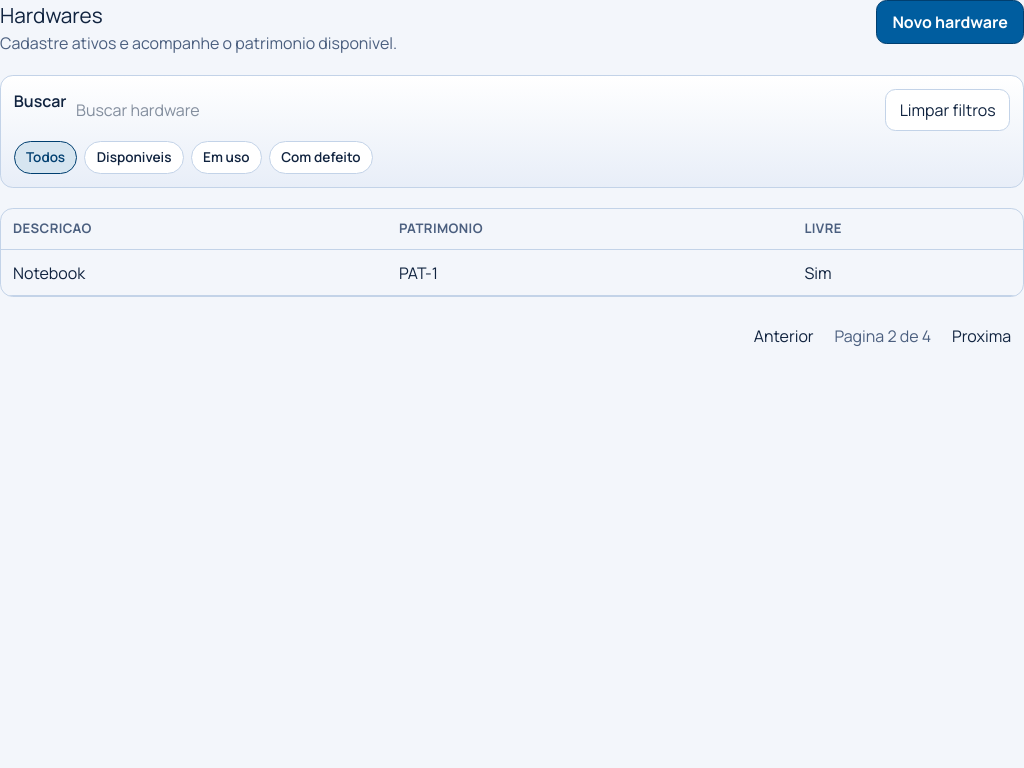
Scenario: HardwaresPage listing flow › maps create errors by status to actionable text
Click the button "Novo hardware".
click(950, 22)  # box [876, 0, 1023, 44]
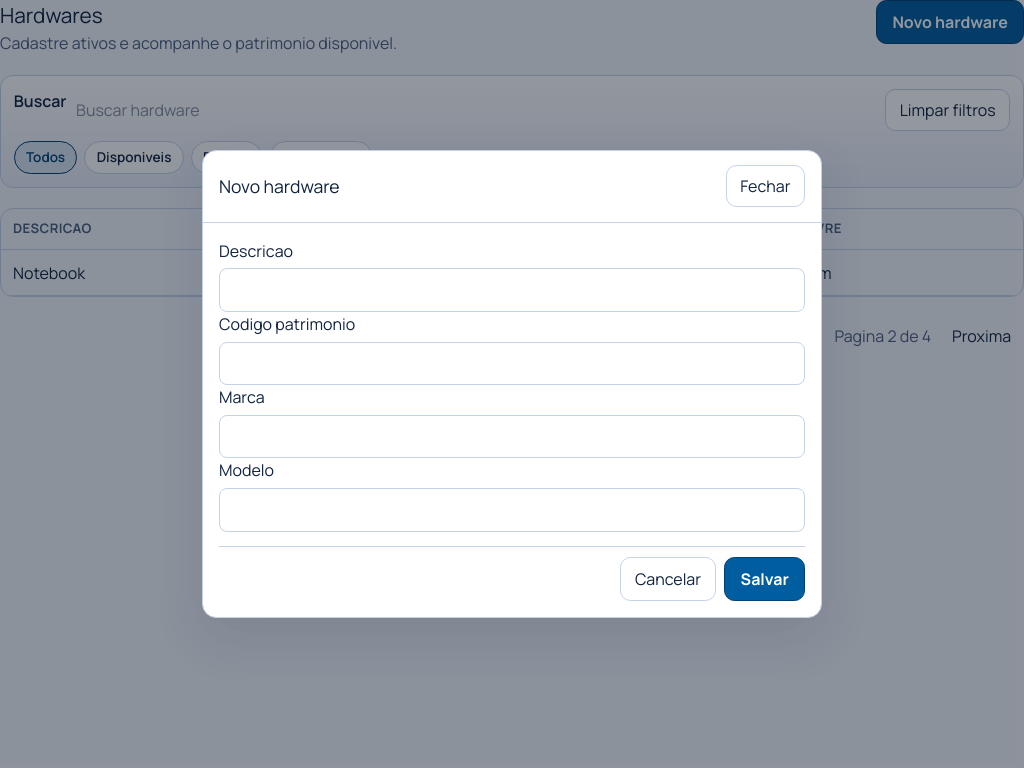
Type "Monitor" into the field labelled "Descricao".
click(512, 290); type("Monitor")  # box [219, 268, 805, 312]
Type "LG" into the field labelled "Marca".
click(512, 437); type("LG")  # box [219, 415, 805, 458]
Type "Ultra" into the field labelled "Modelo".
click(512, 510); type("Ultra")  # box [219, 488, 805, 532]
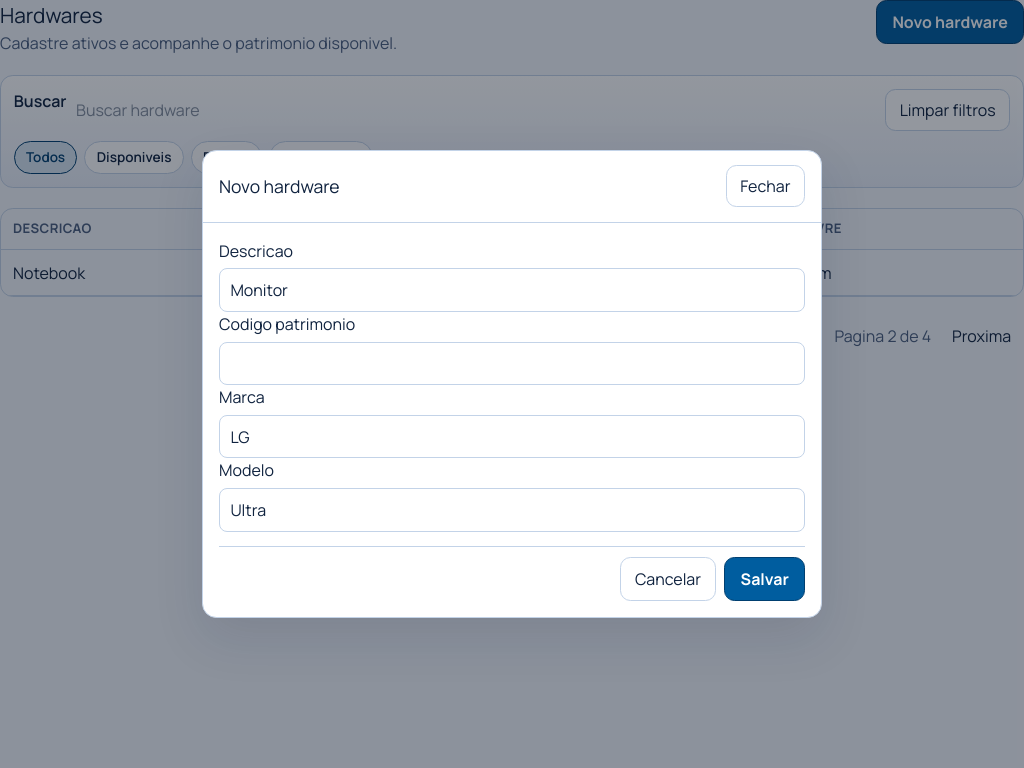
Type "PAT-40" into the field labelled "Codigo patrimonio".
click(512, 363); type("PAT-40")  # box [219, 342, 805, 385]
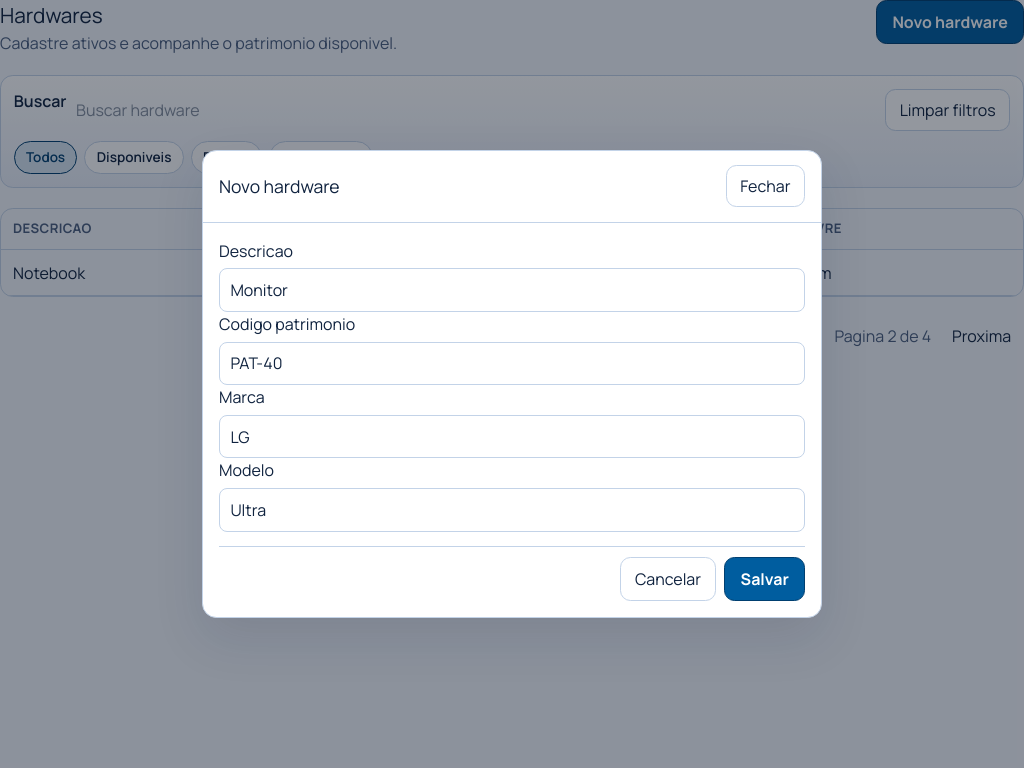
Click the button "Salvar".
click(765, 579)  # box [724, 557, 805, 601]
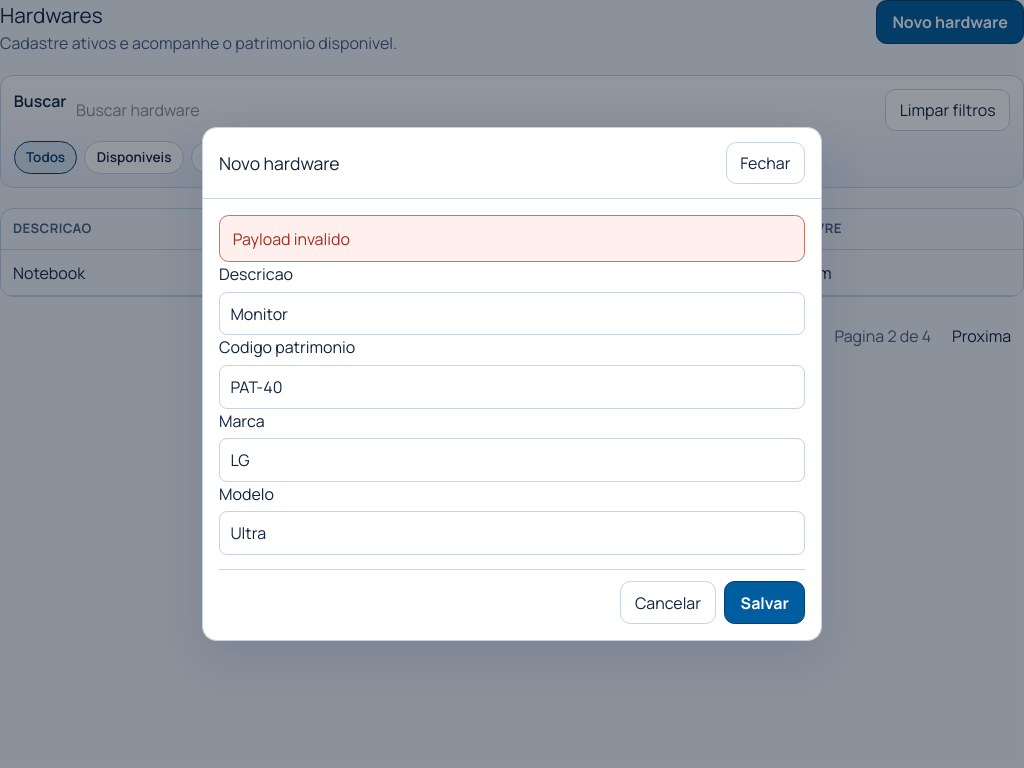
Result: the text "Payload invalido" is shown at [219, 215, 805, 262]
Click the button "Salvar".
click(765, 603)  # box [724, 581, 805, 624]
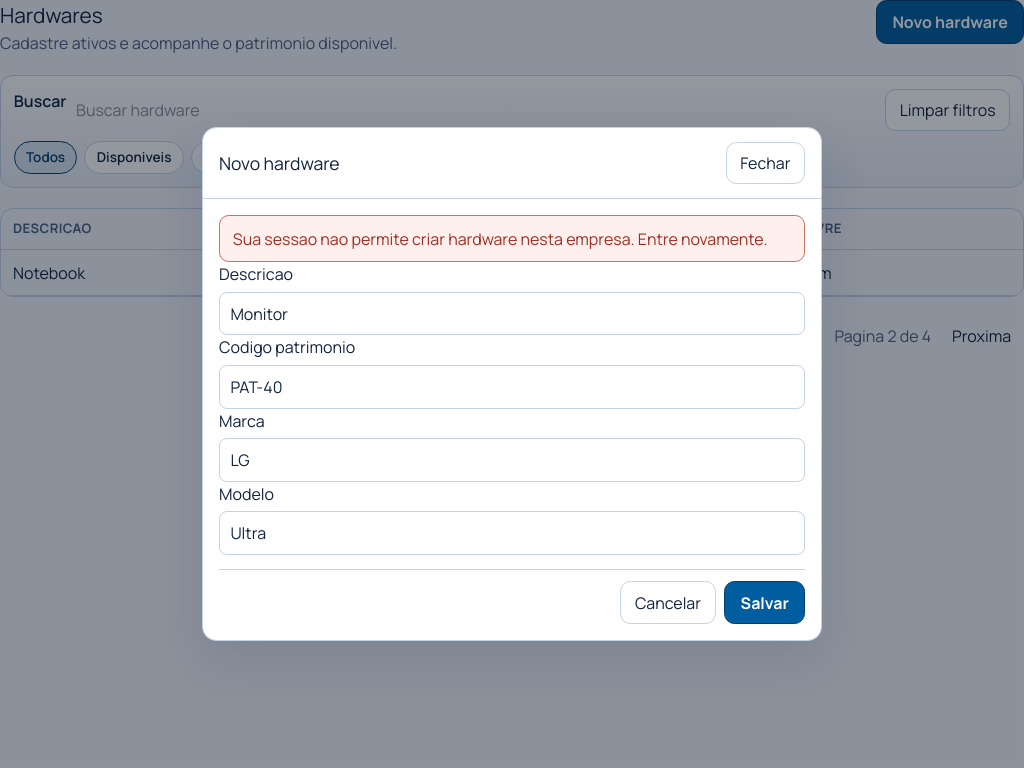
Result: the text "Sua sessao nao permite criar hardware nesta empresa. Entre novamente." is shown at [219, 215, 805, 262]
Click the button "Salvar".
click(765, 603)  # box [724, 581, 805, 624]
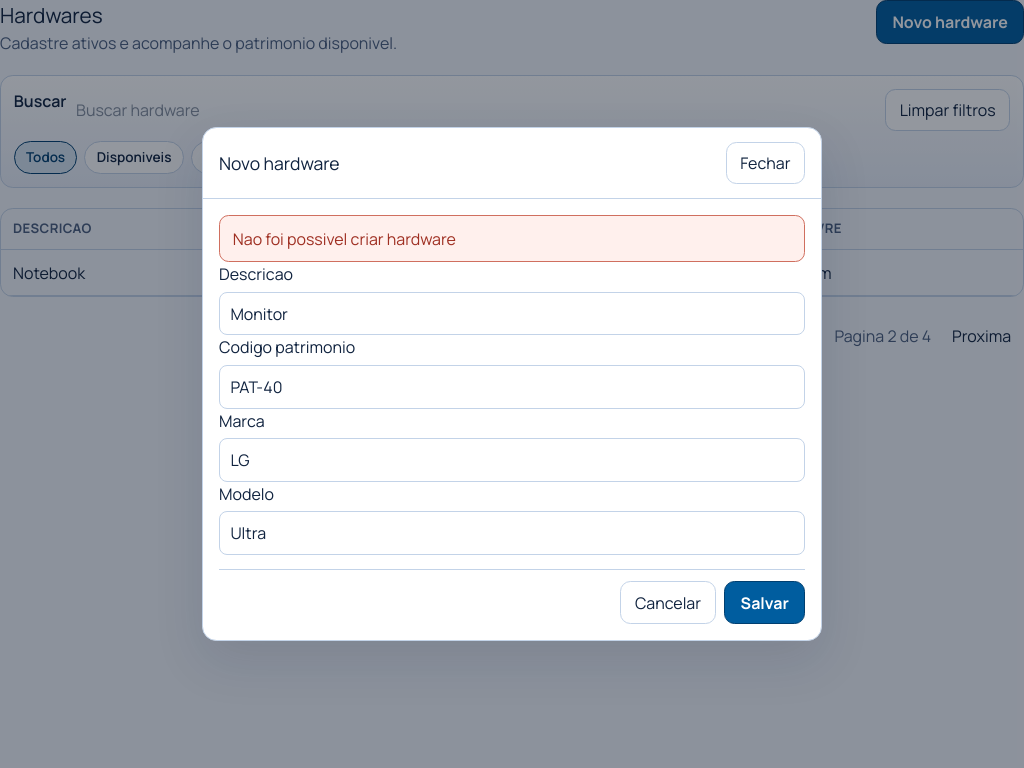
Result: the text "Nao foi possivel criar hardware" is shown at [219, 215, 805, 262]
